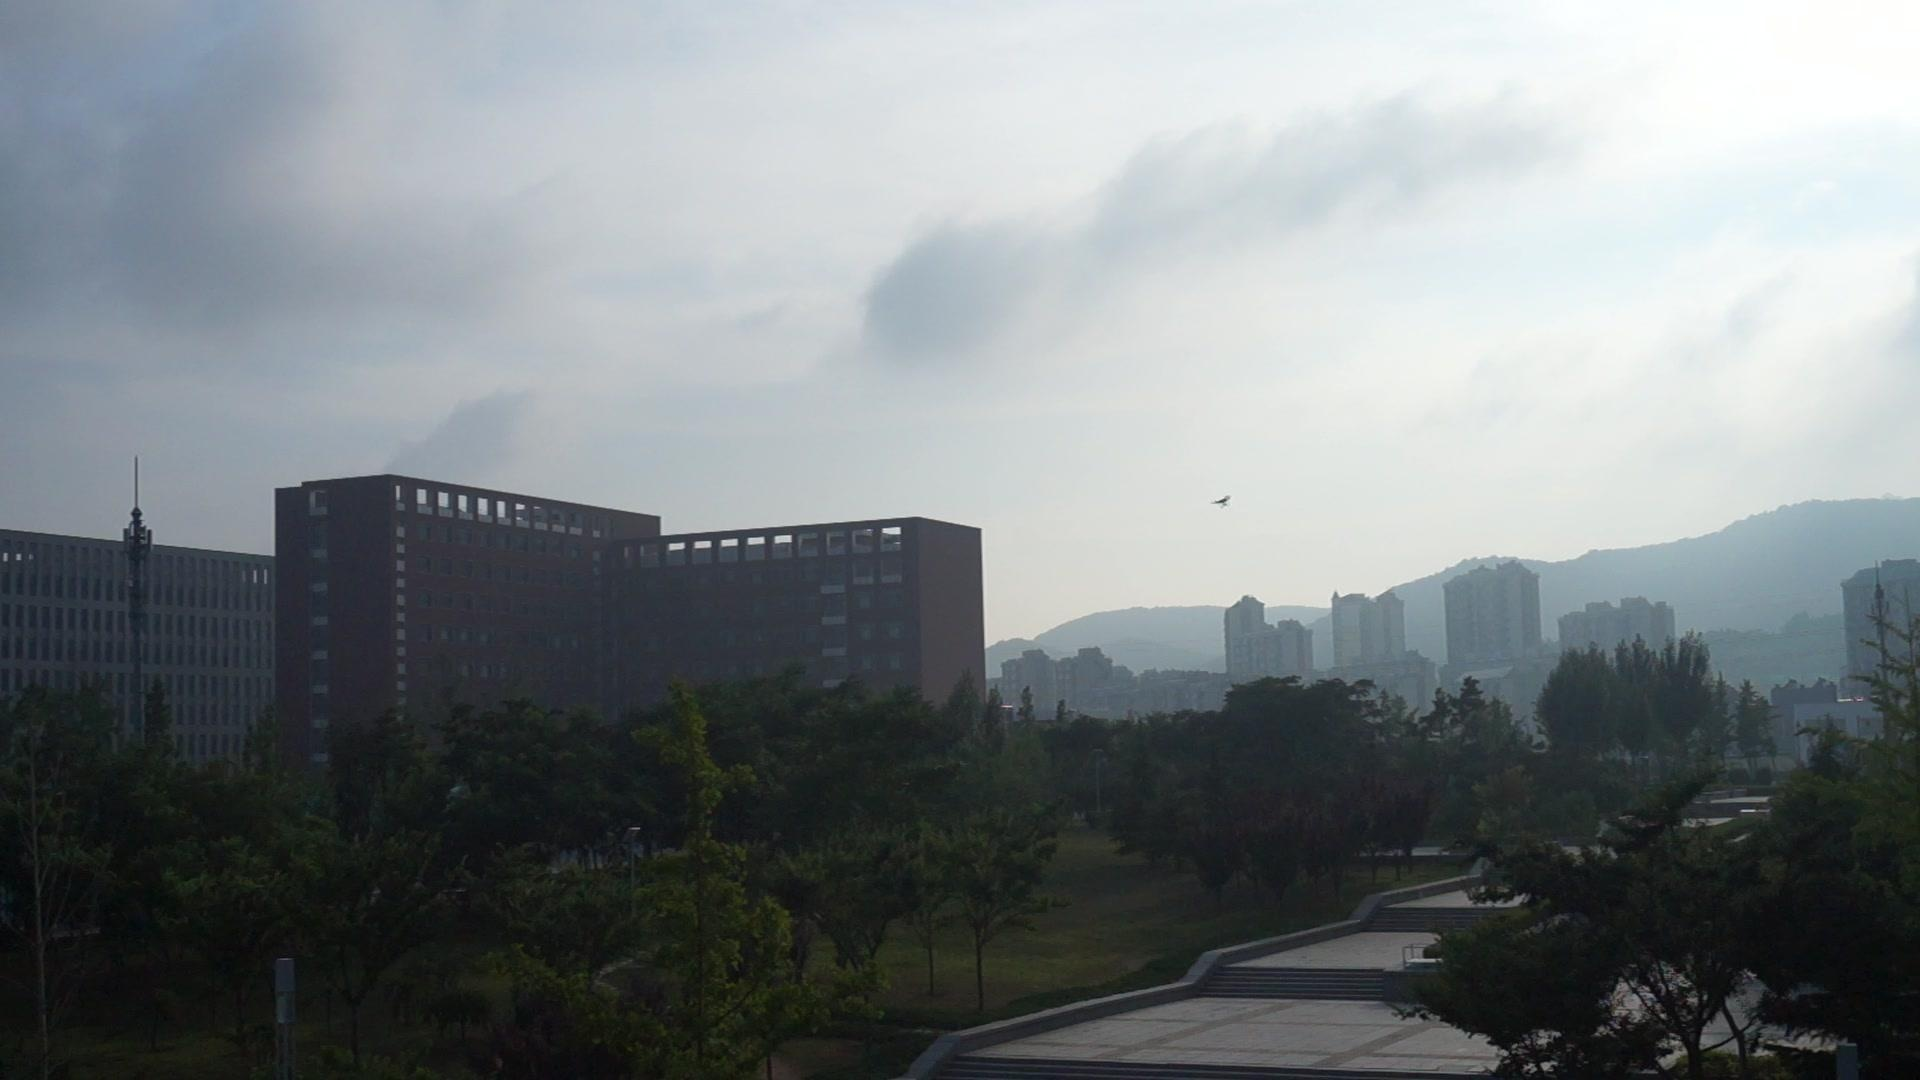UAV: (1211, 496, 1233, 510)
